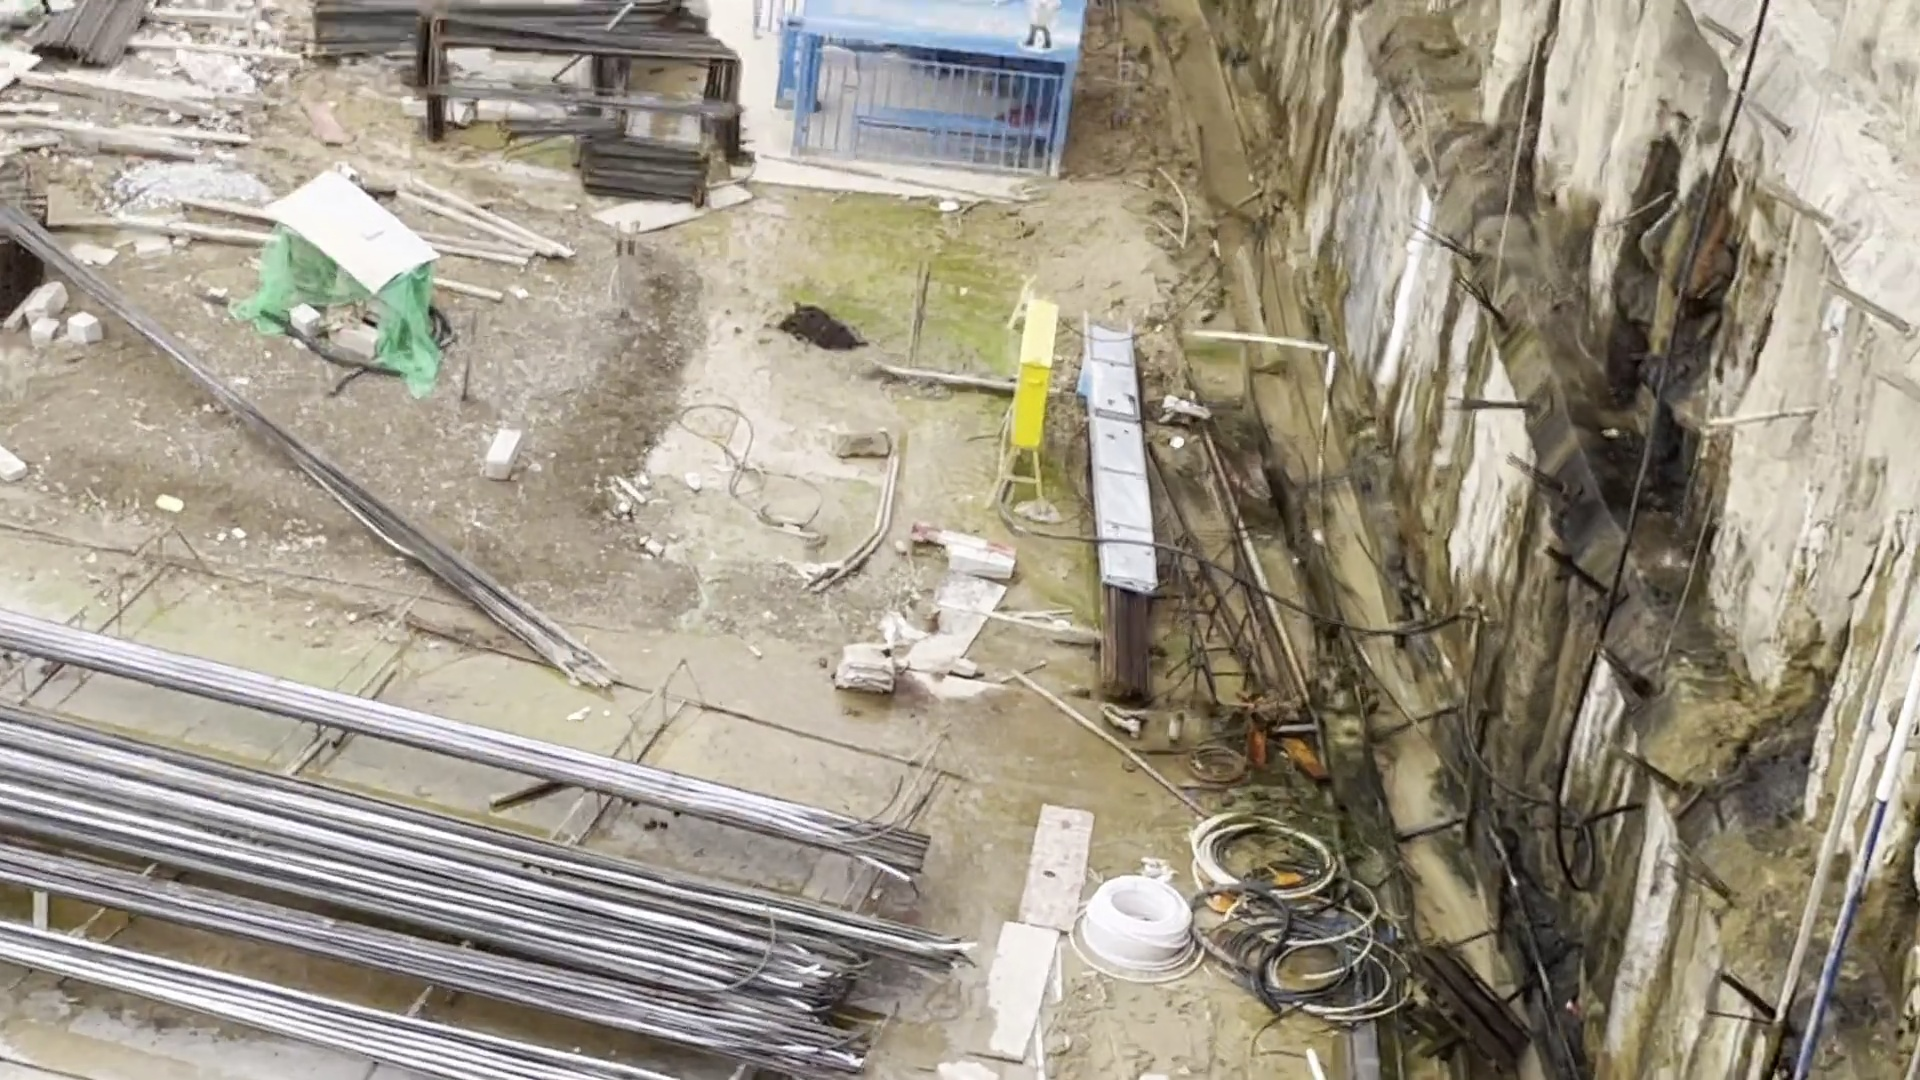ebox: (1001, 302, 1062, 487)
rebar: (1, 644, 916, 1033)
